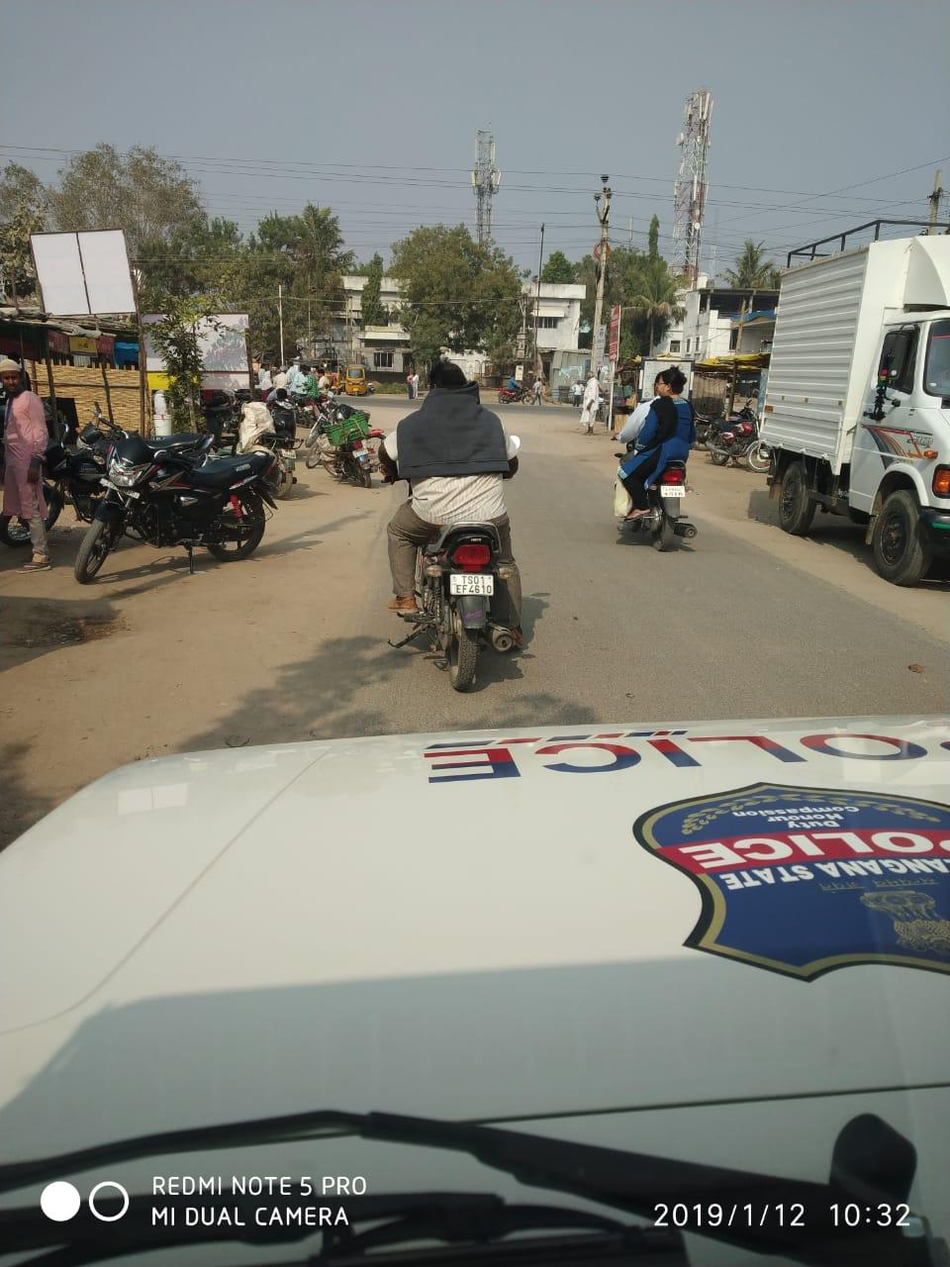plate: (441, 568, 506, 600)
